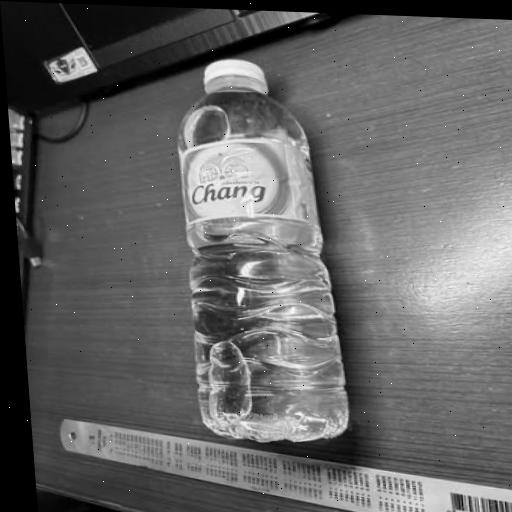bottle: (138, 23, 367, 480)
